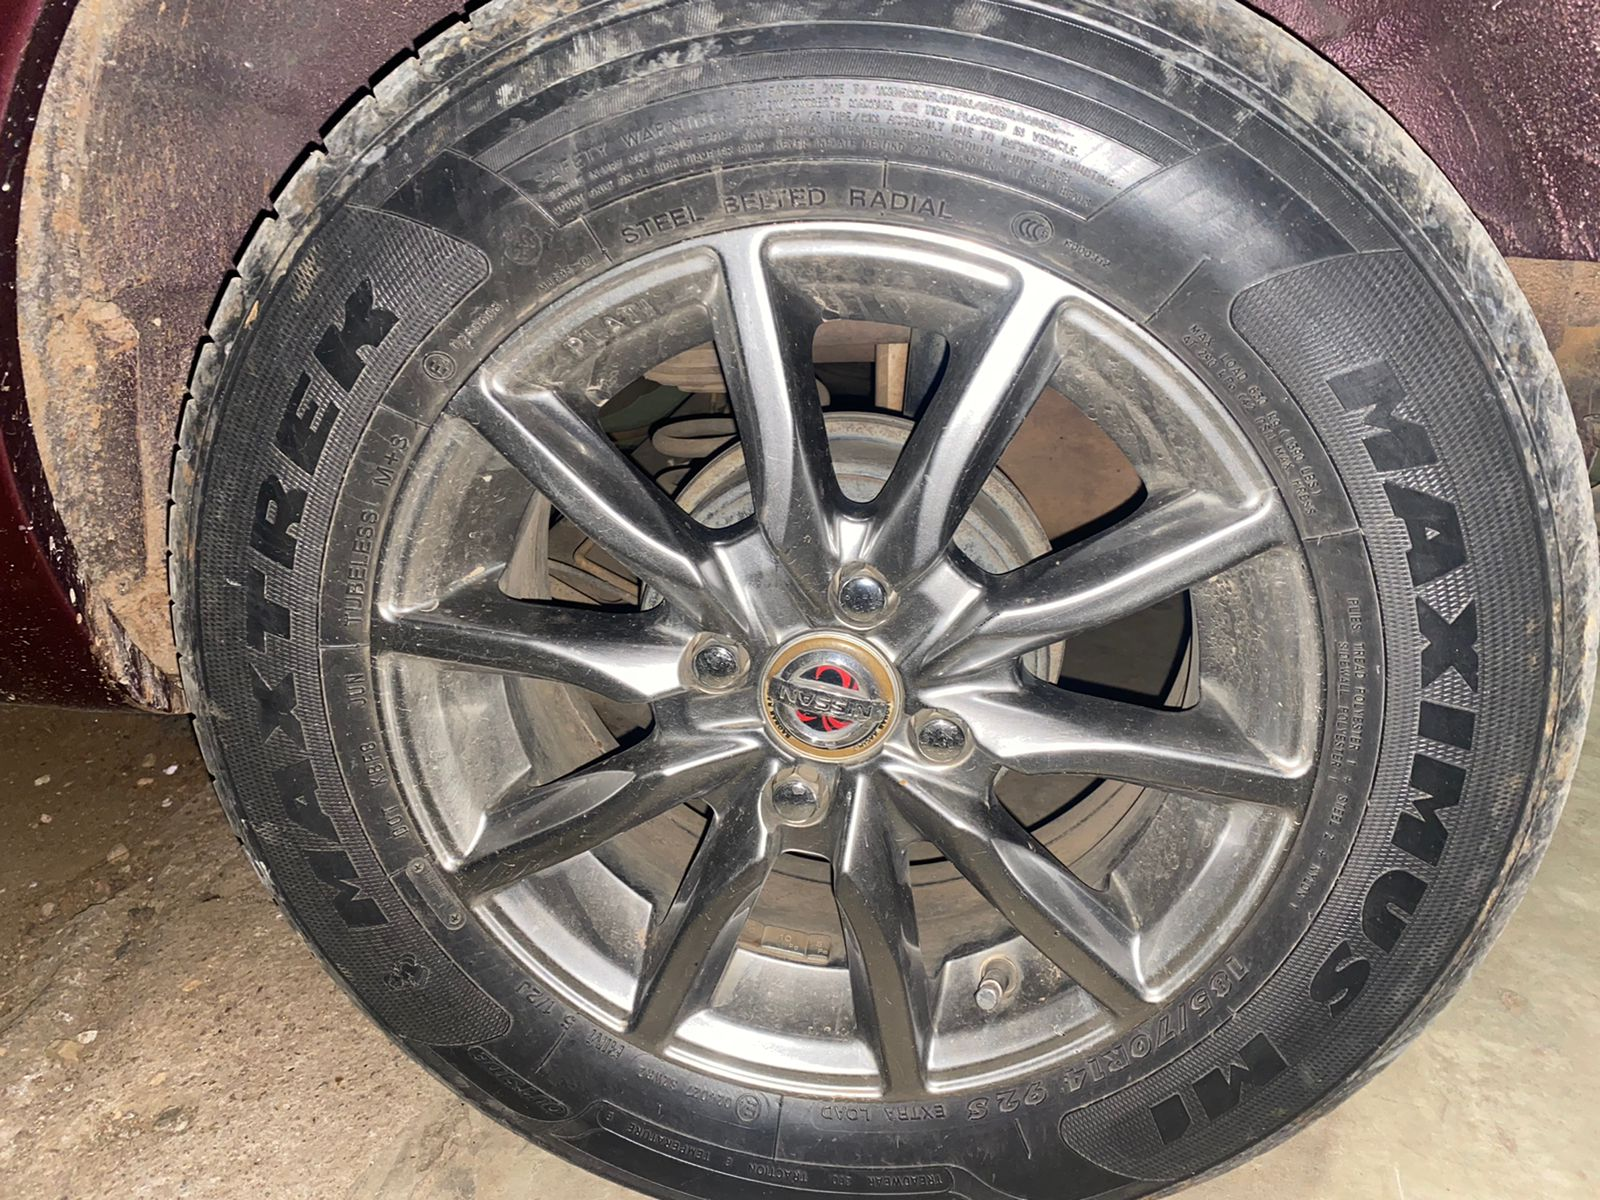wheel: (160, 5, 1600, 1200)
